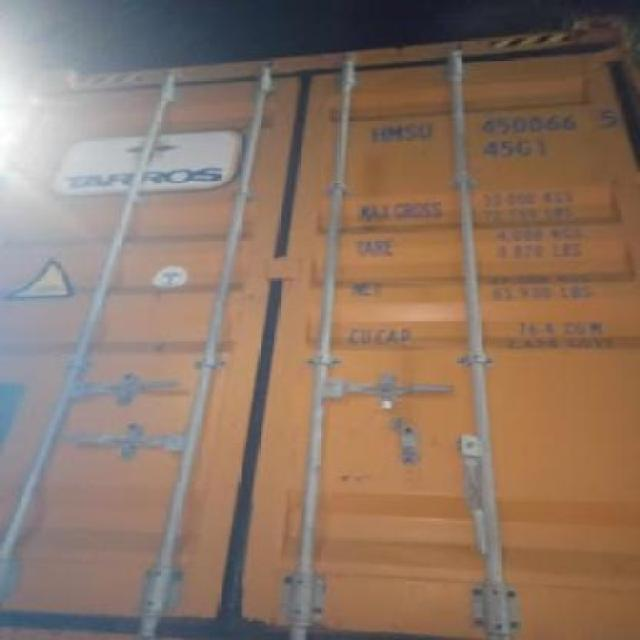ISO: (481, 138, 552, 160)
container_number: (368, 106, 614, 142)
